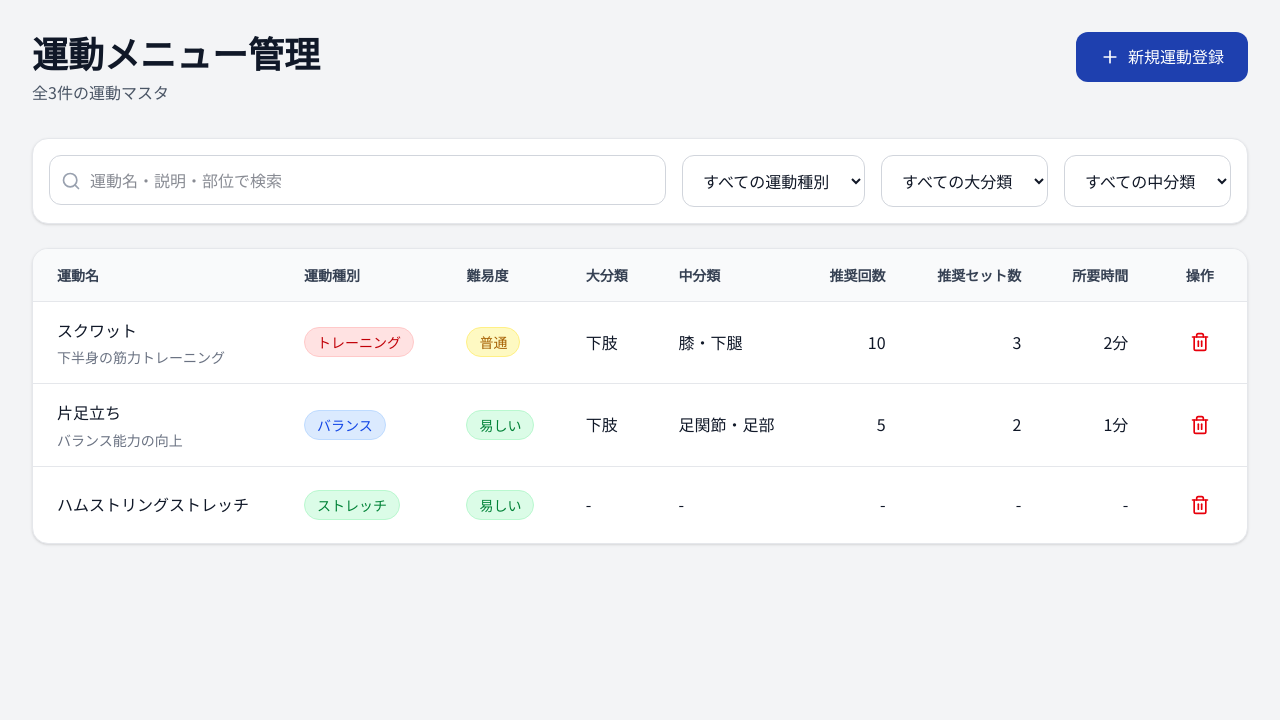
Test: S-10 ExerciseMenuManagement › filtering › should filter by exercise type
The image size is (1280, 720).
Check: the text "スクワット" is shown, box x1=57 y1=318 x2=137 y2=342
Check: the text "片足立ち" is shown, box x1=57 y1=400 x2=121 y2=424
Step 1. Select "トレーニング" in the dropdown named "運動種別フィルター" → (774, 181), box x1=682 y1=155 x2=865 y2=207
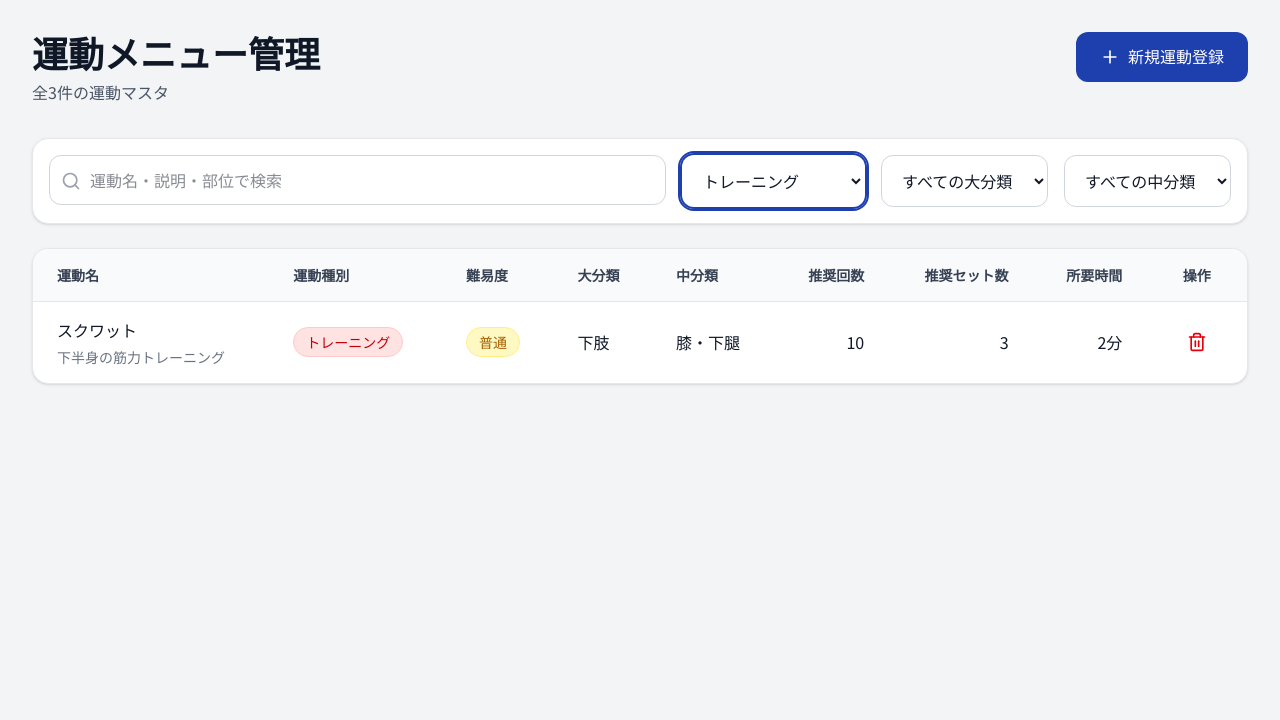
Check: the text "スクワット" is shown, box x1=57 y1=318 x2=137 y2=342
Check: the text "片足立ち" is gone
Check: the text "ハムストリングストレッチ" is gone
